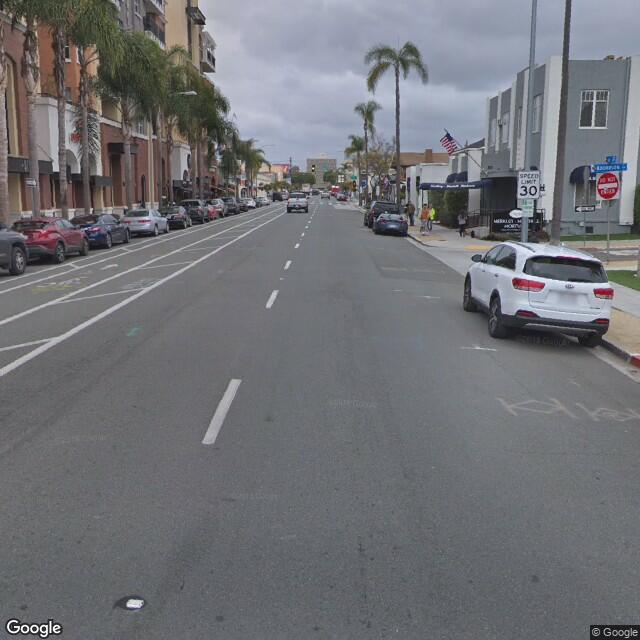road line: (194, 280, 282, 460)
